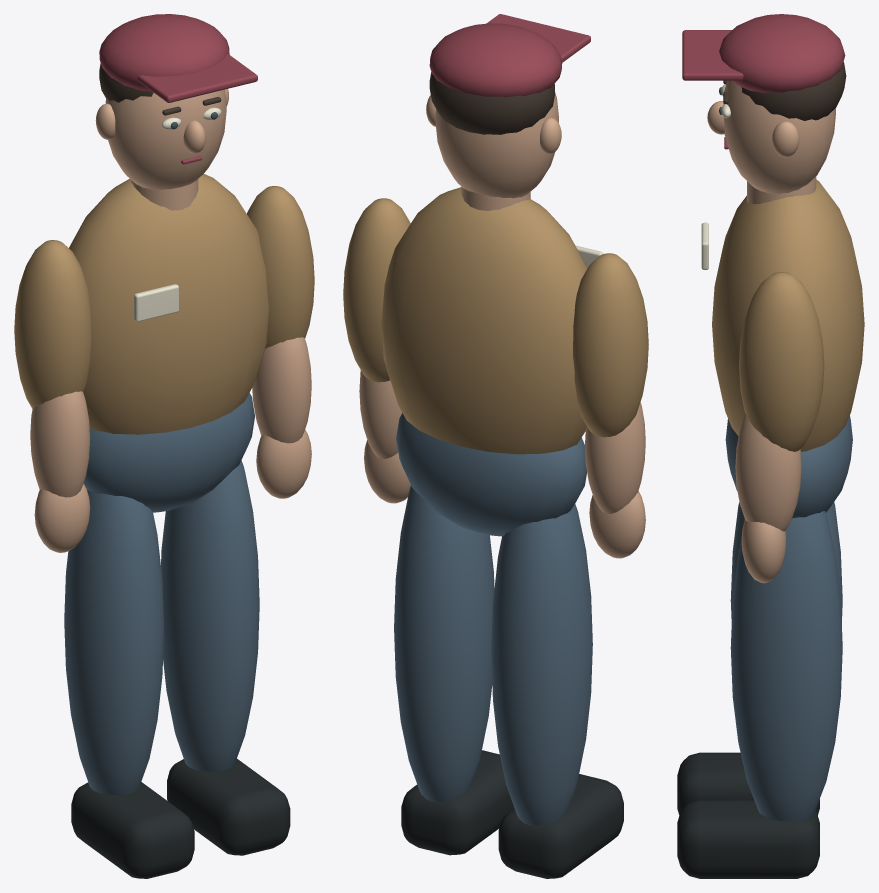
Rendered from Eddie.glb.
3 views of the same model, side by side, from view 1: azimuth 30°, elevation 25°; view 2: azimuth 150°, elevation 25°; view 3: azimuth 270°, elevation 25° (orthographic).
Parts seen in each view (by area): view 1: Shirt torso.002, Trouser leg.004, Trouser leg.005, Hips.002, Sleeve.004, Boot.004, Boot.005, Face.002, Sleeve.005, Cap crown, Forearm.004, Forearm.005 (+8 smaller); view 2: Shirt torso.002, Trouser leg.004, Trouser leg.005, Hips.002, Sleeve.004, Cap crown, Boot.004, Sleeve.005, Face.002, Boot.005, Forearm.004, Hair cap.002 (+6 smaller); view 3: Trouser leg.005, Shirt torso.002, Sleeve.005, Boot.005, Cap crown, Face.002, Forearm.005, Hips.002, Boot.004, Hair cap.002, Cap peak, Hand.005 (+4 smaller).
Part boxes in pixels (bbox=[...]): Shirt torso.002: bbox=[69, 174, 268, 434]; Trouser leg.004: bbox=[64, 490, 163, 794]; Trouser leg.005: bbox=[161, 460, 259, 771]; Hips.002: bbox=[83, 393, 254, 512]; Sleeve.004: bbox=[14, 240, 91, 408]; Boot.004: bbox=[71, 782, 194, 878]; Boot.005: bbox=[167, 759, 290, 855]; Face.002: bbox=[105, 89, 226, 189]; Sleeve.005: bbox=[247, 186, 314, 348]; Cap crown: bbox=[99, 14, 229, 91]; Forearm.004: bbox=[30, 391, 90, 497]; Forearm.005: bbox=[252, 337, 311, 443]; Shirt torso.002: bbox=[381, 187, 587, 454]; Trouser leg.004: bbox=[491, 504, 592, 825]; Trouser leg.005: bbox=[394, 485, 494, 801]; Hips.002: bbox=[396, 413, 586, 536]; Sleeve.004: bbox=[573, 253, 648, 437]; Cap crown: bbox=[429, 23, 562, 97]; Boot.004: bbox=[498, 774, 623, 878]; Sleeve.005: bbox=[343, 198, 410, 382]; Face.002: bbox=[435, 92, 558, 198]; Boot.005: bbox=[401, 750, 514, 855]; Forearm.004: bbox=[585, 402, 645, 513]; Hair cap.002: bbox=[429, 72, 554, 134]; Trouser leg.005: bbox=[730, 511, 842, 821]; Shirt torso.002: bbox=[712, 179, 864, 451]; Sleeve.005: bbox=[739, 272, 824, 451]; Boot.005: bbox=[677, 800, 819, 878]; Cap crown: bbox=[719, 14, 845, 93]; Face.002: bbox=[723, 80, 835, 193]; Forearm.005: bbox=[735, 414, 801, 531]; Hips.002: bbox=[725, 415, 852, 518]; Boot.004: bbox=[677, 752, 819, 815]; Hair cap.002: bbox=[741, 62, 846, 120]; Cap peak: bbox=[682, 30, 743, 80]; Hand.005: bbox=[741, 519, 786, 583].
Size of the model in its own units: 0.664 by 1.78 by 0.368.
